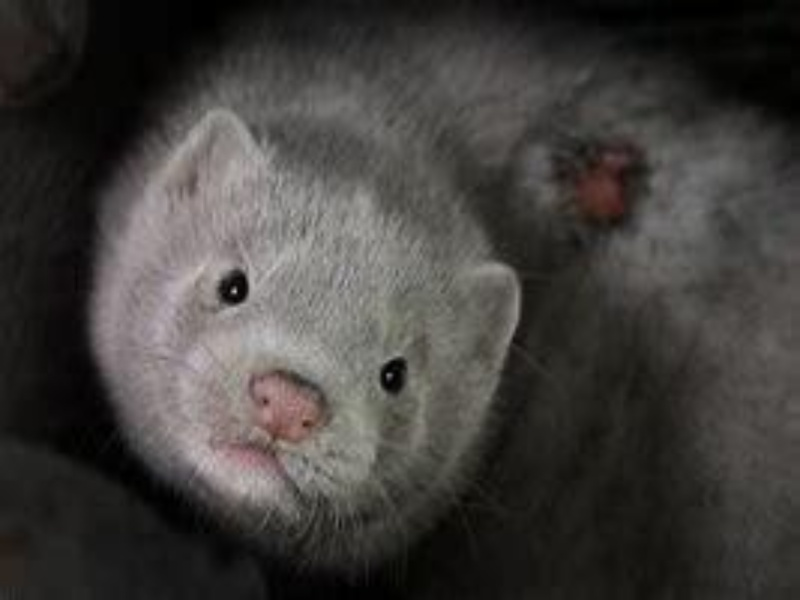minkish: (87, 51, 532, 553)
